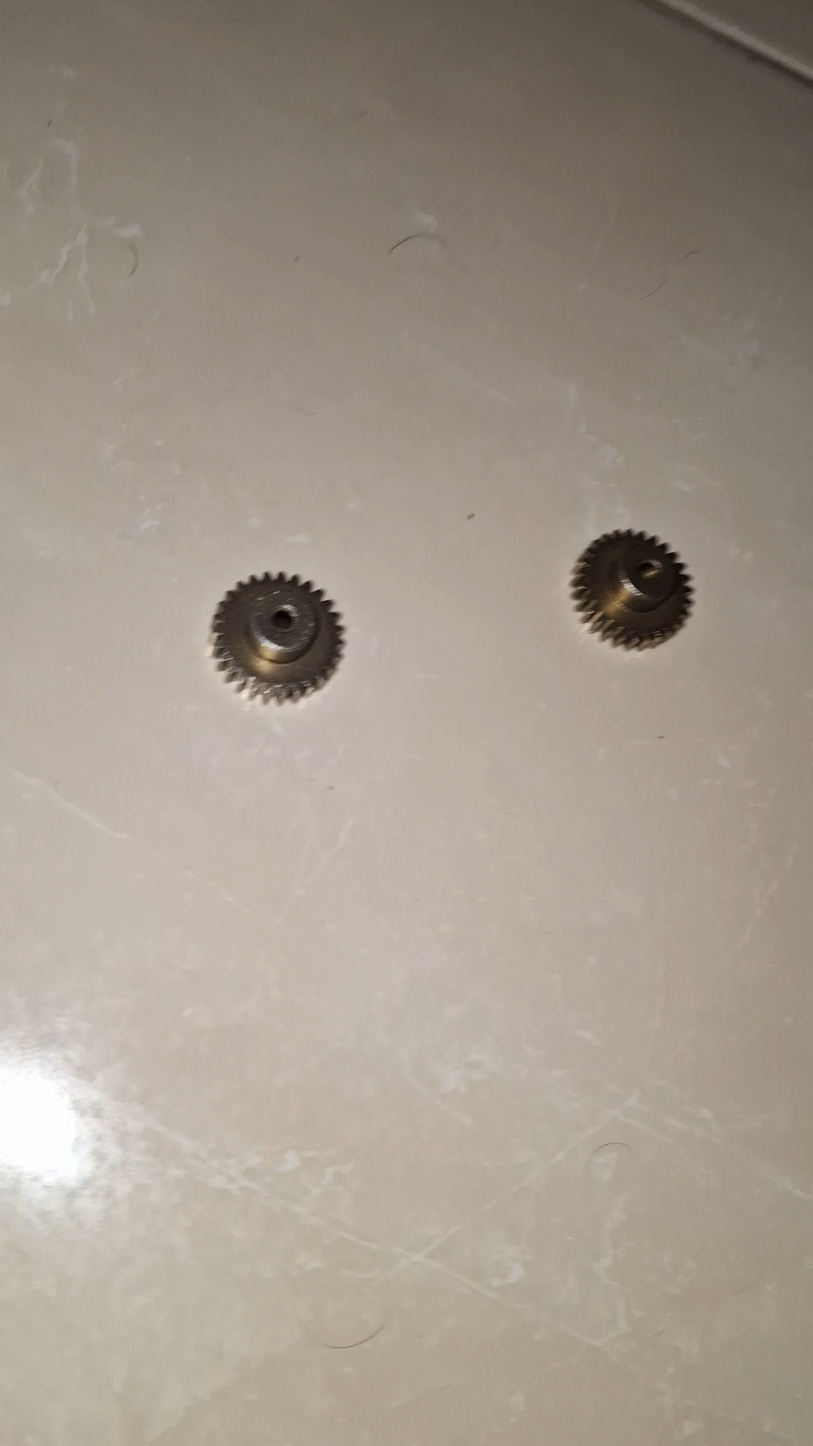spur gear: (211, 573, 343, 702), (571, 531, 692, 648)
